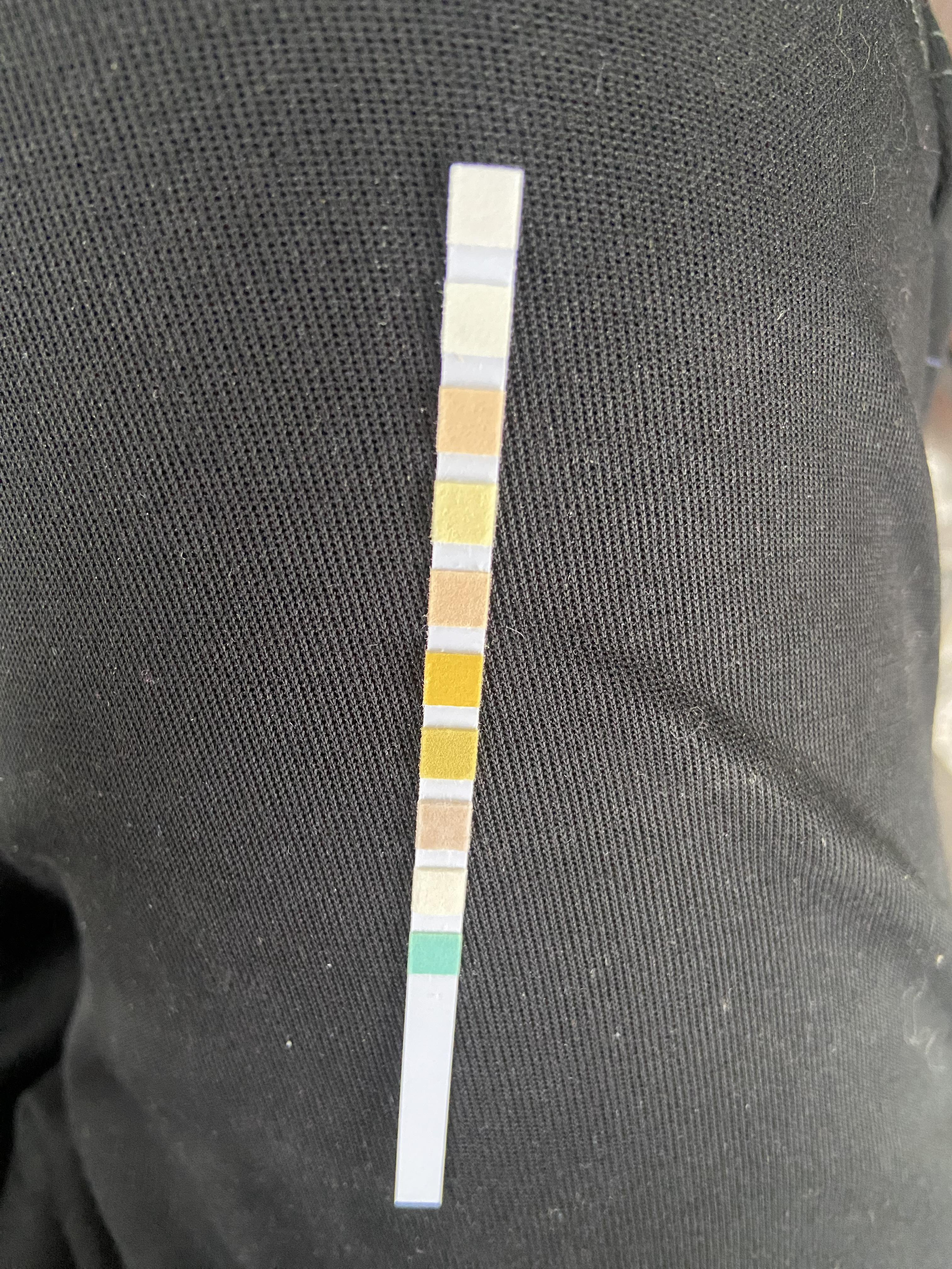Bilirubin: (415, 873, 463, 911)
Blood: (425, 655, 480, 703)
Glucose: (412, 935, 459, 972)
Ketone: (420, 804, 469, 846)
Leukocytes: (452, 169, 517, 242)
Nitrite: (447, 288, 509, 353)
Protein: (436, 488, 492, 540)
SpGravity: (423, 733, 474, 777)
Urobilinogen: (442, 392, 499, 451)
pH: (431, 574, 486, 624)
strip: (395, 163, 524, 1208)
